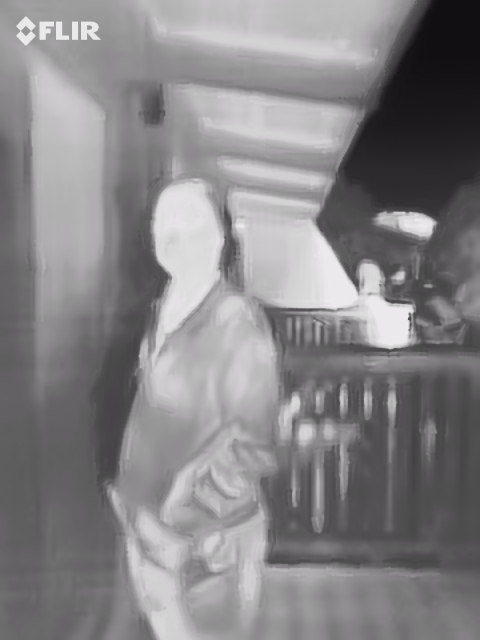head: (145, 175, 229, 275)
